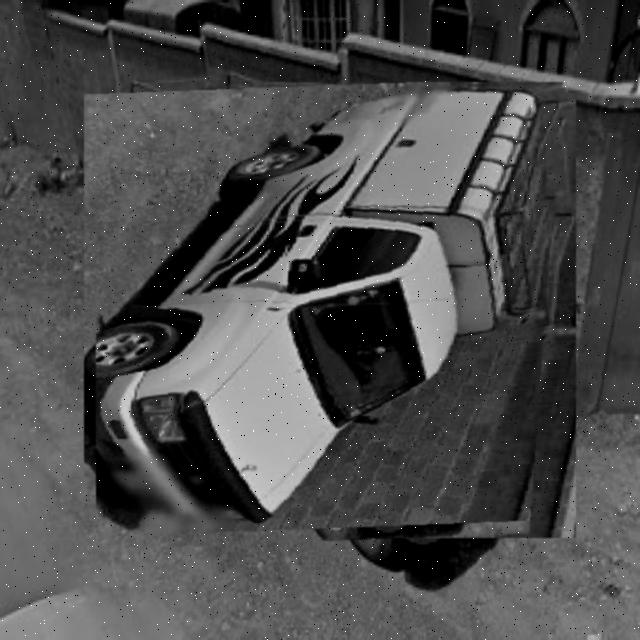car: (97, 83, 565, 552)
